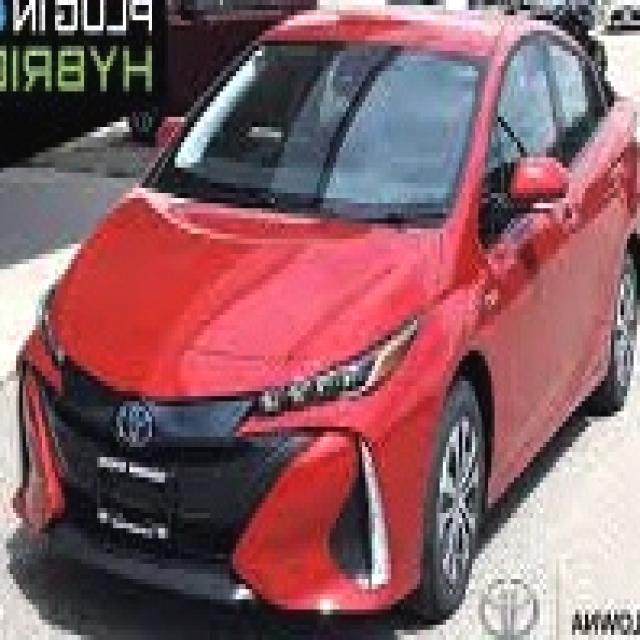red: (12, 26, 640, 590)
